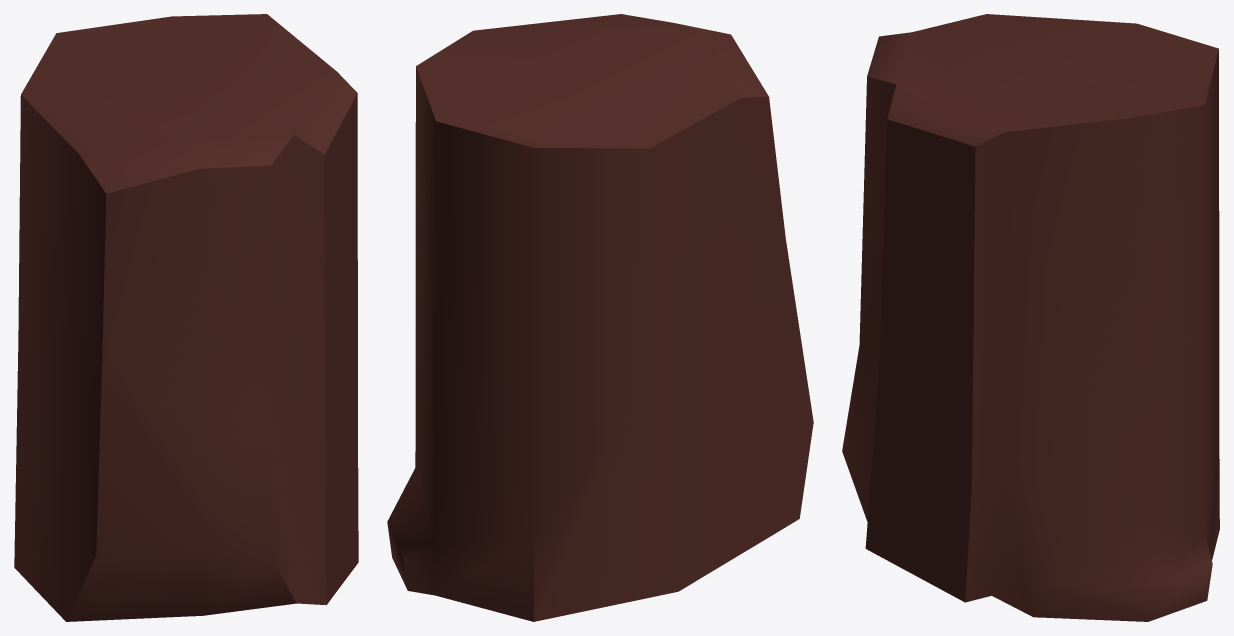
File: SM_small_rock_I.fbx
3 views of the same model, side by side, from view 1: azimuth 30°, elevation 25°; view 2: azimuth 150°, elevation 25°; view 3: azimuth 270°, elevation 25° (orthographic). The views are drawn at different scales.
Visible parts, largest first — view 1: polySurface66; view 2: polySurface66; view 3: polySurface66.
Part boxes in pixels (x1,y1,x2,y2): polySurface66: [14, 14, 358, 621]; polySurface66: [387, 14, 813, 621]; polySurface66: [842, 14, 1219, 621].
Size of the model in its own units: 375 by 568 by 391.
